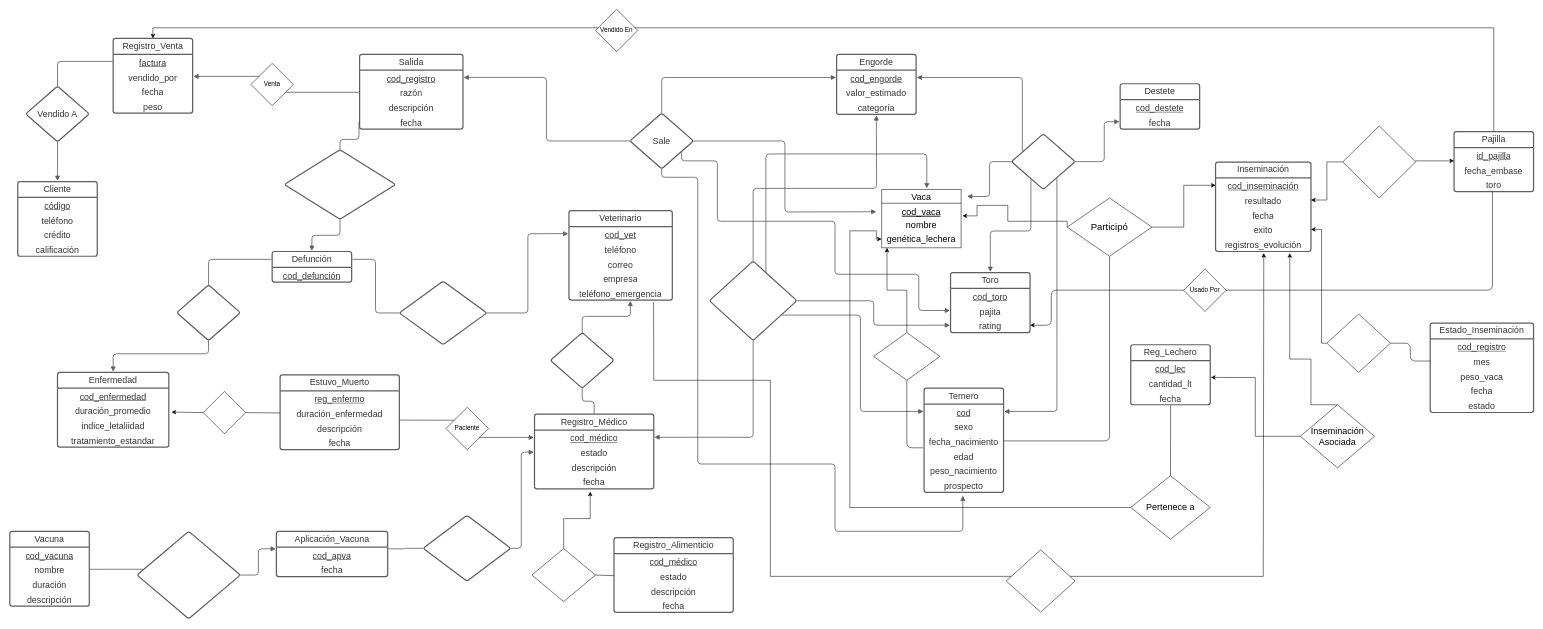
The diagram is 1543 pixels wide and 629 high, and some of its shapes have lost their labels. Each missing label, with the centre of its shape:
"Causa" belongs at (x=208, y=312).
"Certifica" belongs at (x=443, y=312).
"Destetado" belongs at (x=1043, y=161).
"Emitido Por" belongs at (x=582, y=360).
"Empleado en" belongs at (x=1379, y=161).
"Enfermo de" belongs at (x=224, y=412).
"Historial_Médico" belongs at (x=753, y=300).
"Nacido de" belongs at (x=906, y=356).
"Proviene de" belongs at (x=563, y=575).
"Realizó" belongs at (x=1040, y=580).
"Registra" belongs at (x=1358, y=342).
"Registrada" belongs at (x=466, y=548).
"Sacrifico Enfermedad" belongs at (x=339, y=184).
"Usada En" belongs at (x=188, y=574).
